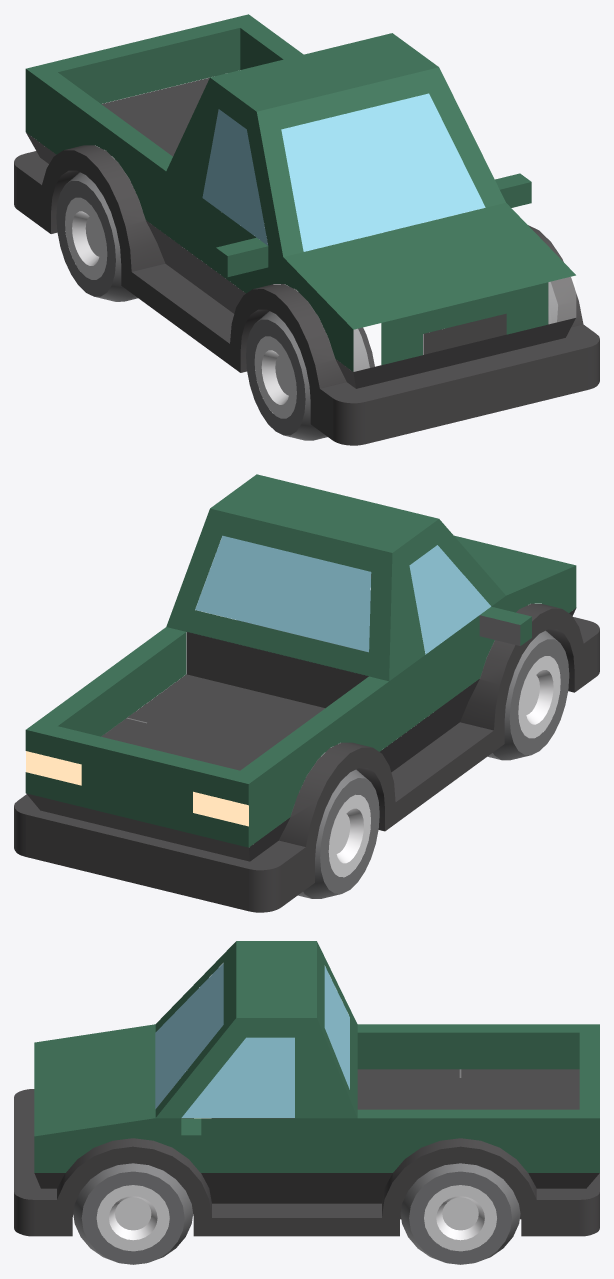
The model's file is truck.glb.
3 renders of one model, top to bottom at view 1: azimuth 30°, elevation 25°; view 2: azimuth 150°, elevation 25°; view 3: azimuth 270°, elevation 25°, orthographic. The views are drawn at different scales.
Parts seen in each view (by area): view 1: body, wheel_frontRight, wheel_backRight; view 2: body, wheel_frontRight, wheel_backRight; view 3: body, wheel_backLeft, wheel_frontLeft.
Part boxes in pixels (bbox=[...]): body: bbox=[14, 14, 599, 445]; wheel_frontRight: bbox=[246, 305, 369, 440]; wheel_backRight: bbox=[56, 159, 137, 301]; body: bbox=[14, 474, 599, 912]; wheel_frontRight: bbox=[486, 630, 569, 760]; wheel_backRight: bbox=[298, 757, 379, 898]; body: bbox=[14, 941, 599, 1236]; wheel_backLeft: bbox=[400, 1163, 520, 1264]; wheel_frontLeft: bbox=[73, 1163, 192, 1264].
Size of the model in its own units: 1.5 by 1.3 by 2.9.
Materials: 3 (3 with a texture image).
